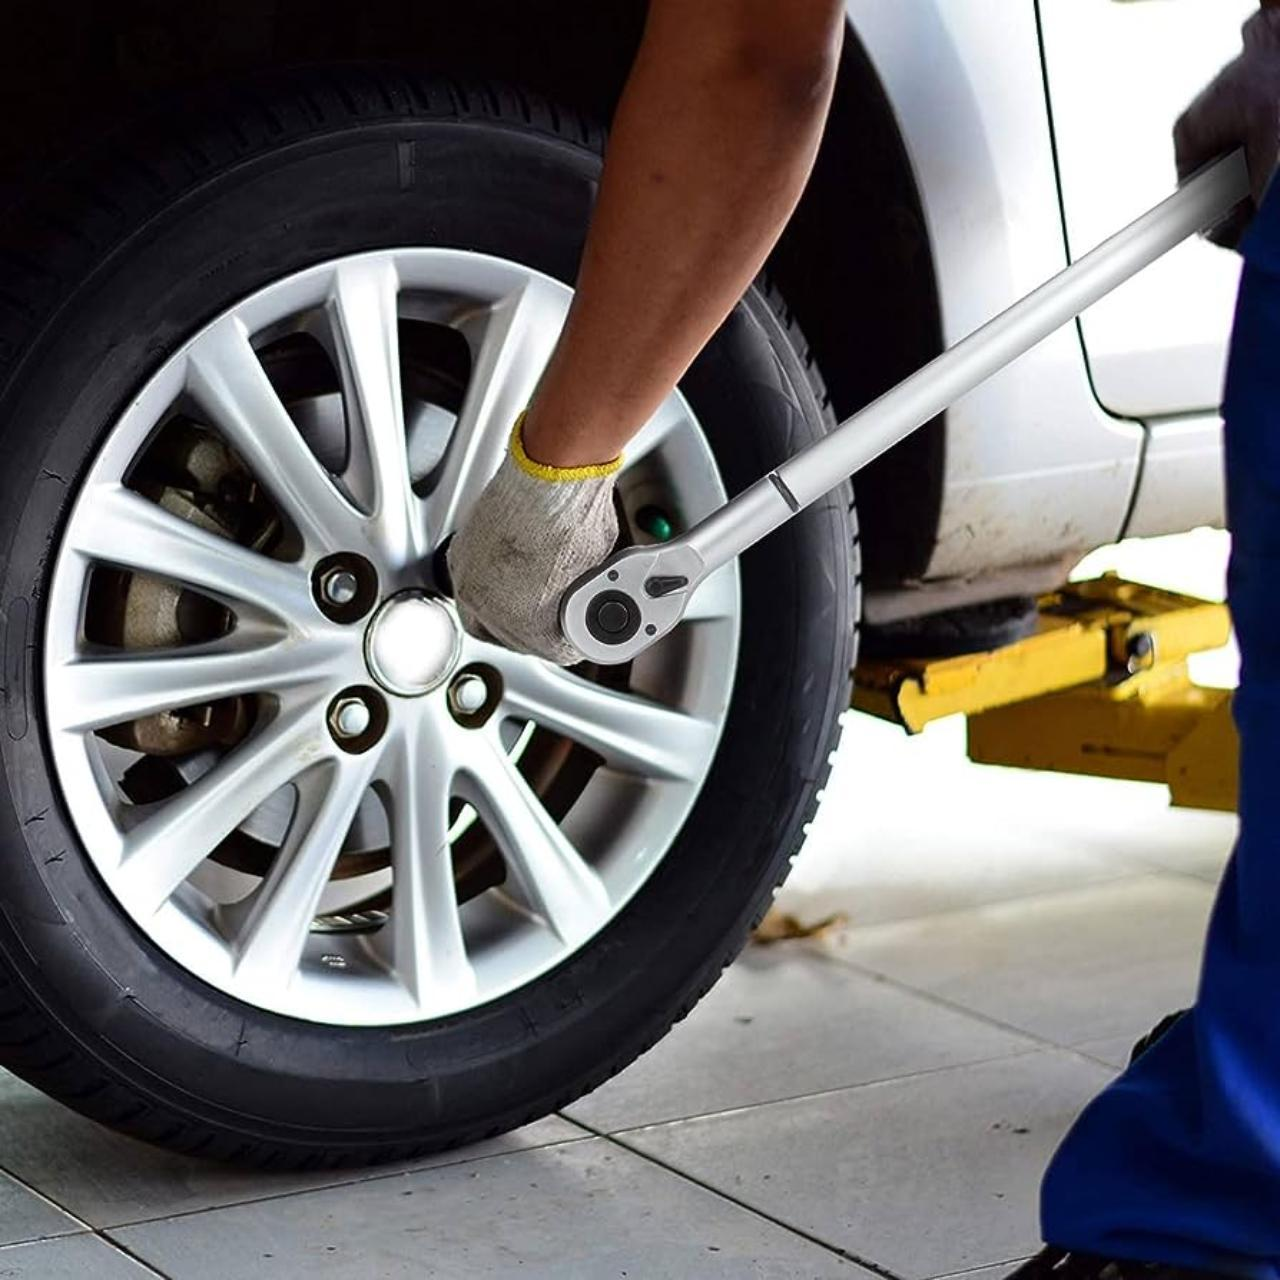Tool: (557, 525, 712, 667)
